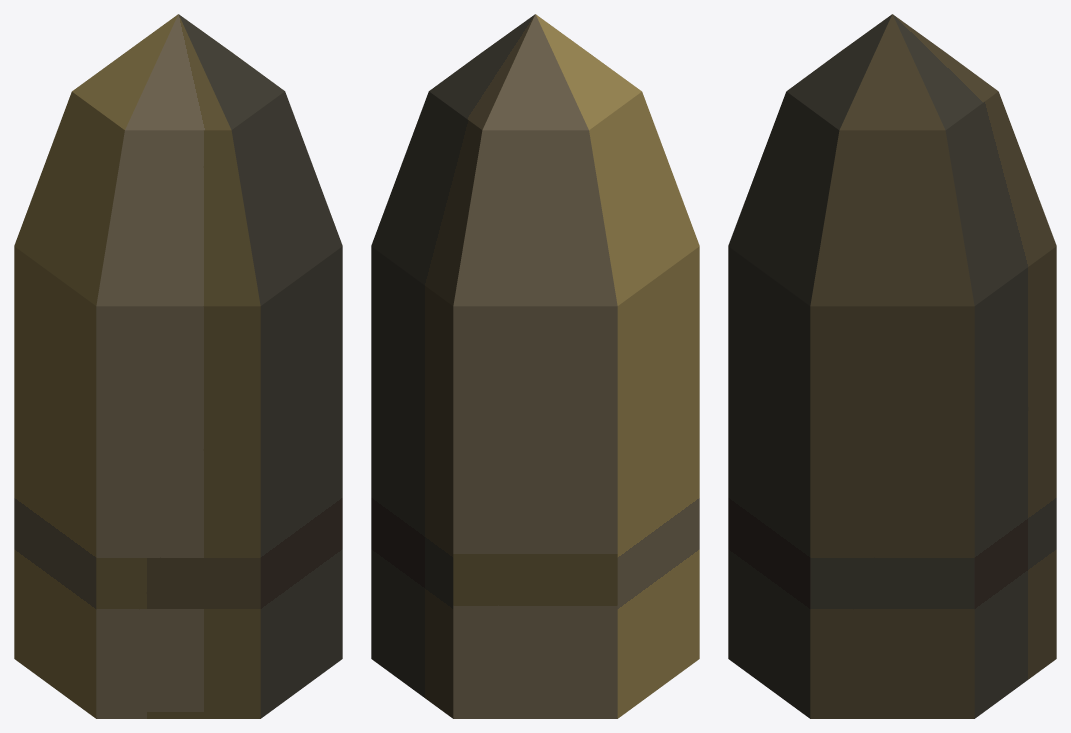
The model's file is tankshell.fbx.
The picture shows the model from 3 angles, left to right: view 1: azimuth 30°, elevation 25°; view 2: azimuth 150°, elevation 25°; view 3: azimuth 270°, elevation 25°; orthographic projection.
Parts seen in each view (by area): view 1: cylinder; view 2: cylinder; view 3: cylinder.
Part boxes in pixels (<box>): cylinder: <box>14,14,342,718</box>; cylinder: <box>371,14,699,718</box>; cylinder: <box>728,14,1056,718</box>.
Size of the model in its own units: 31.25 by 78.12 by 36.08.
Materials: 1 (1 with a texture image).
